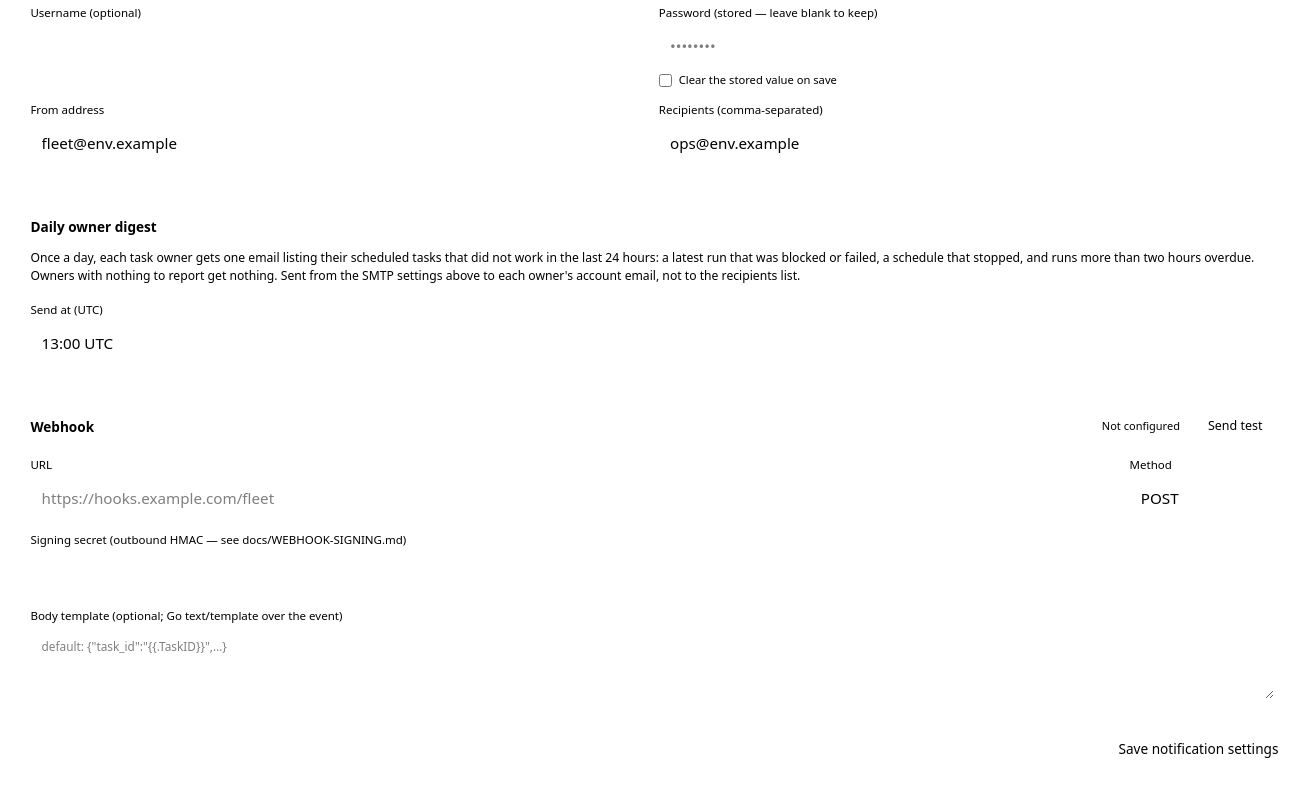
Test case: NotificationsAdminPage › surfaces a validation rejection without losing the form
The image size is (1304, 800).
(page scrolled)
Type "ftp://nope" into the field with test id "notify-webhook-url". click: (573, 498)
box: left=30, top=478, right=1116, bottom=519
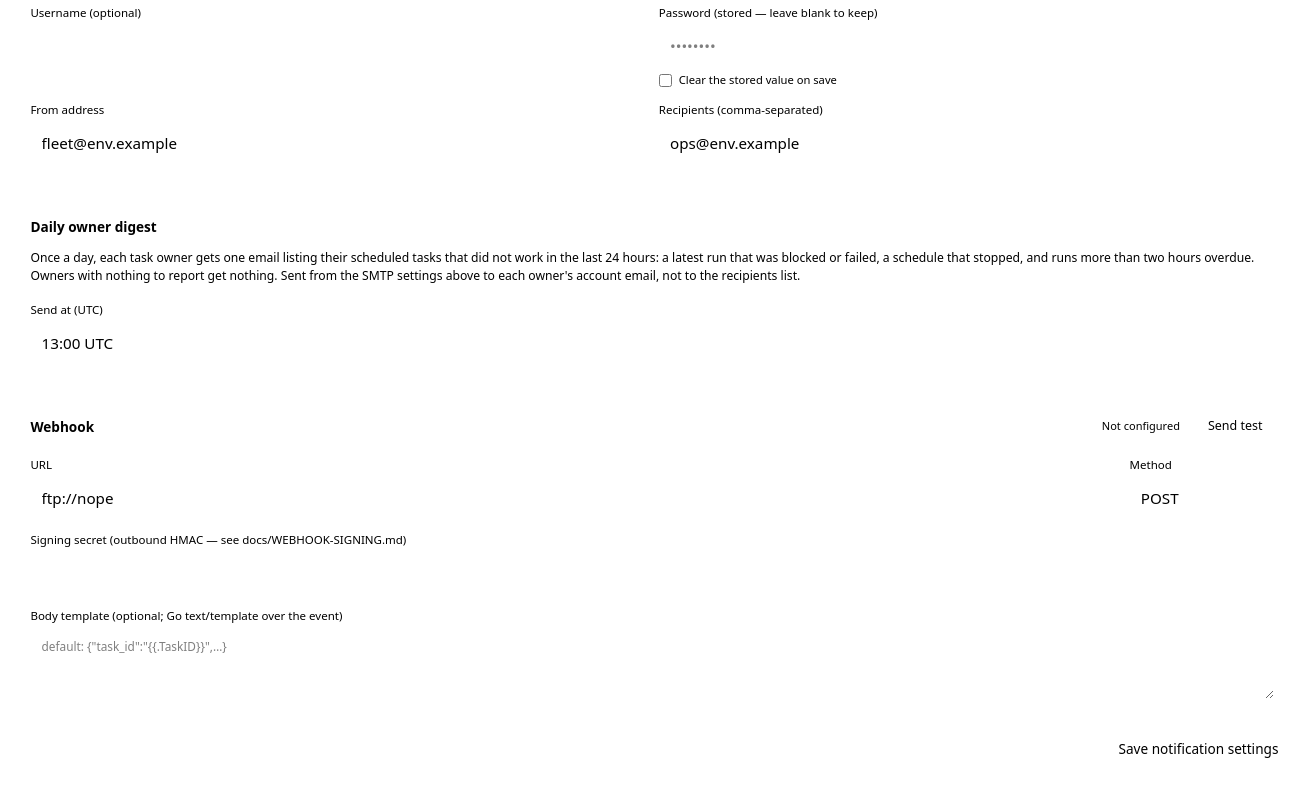
Click the button with test id "notify-save". click: (1198, 750)
box: left=1105, top=732, right=1292, bottom=767
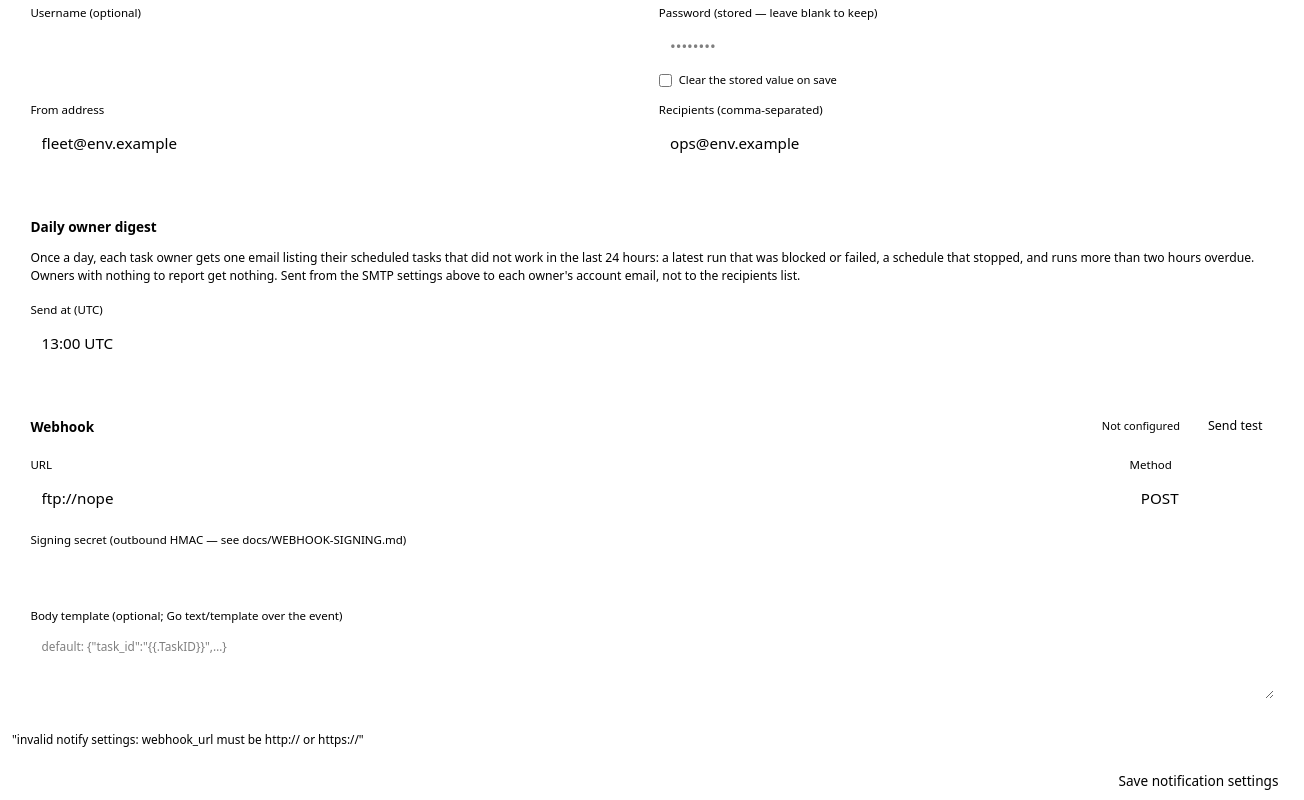
Check: the message shows "webhook_url must be", box left=12, top=731, right=364, bottom=747
